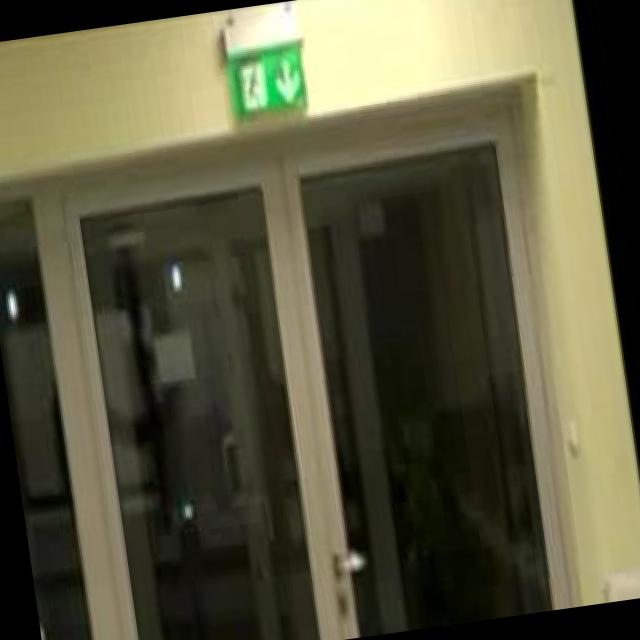Guns: (38, 611, 69, 640)
